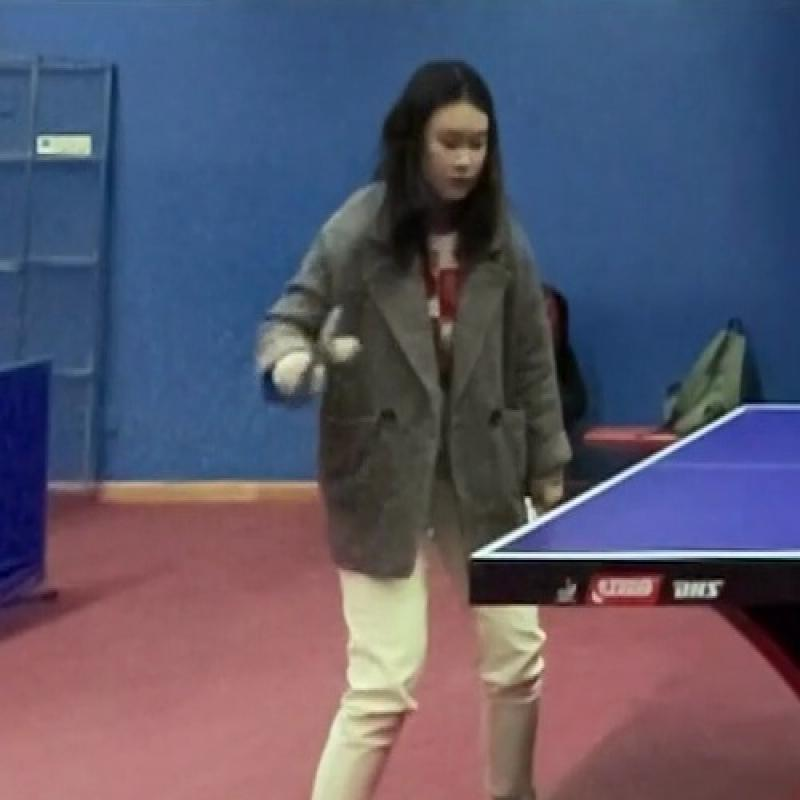bats: (271, 292, 367, 412)
